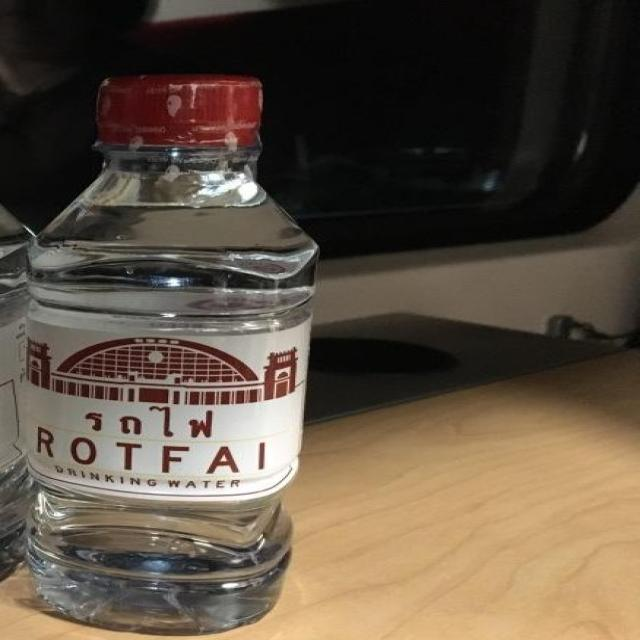high: (22, 76, 317, 634)
